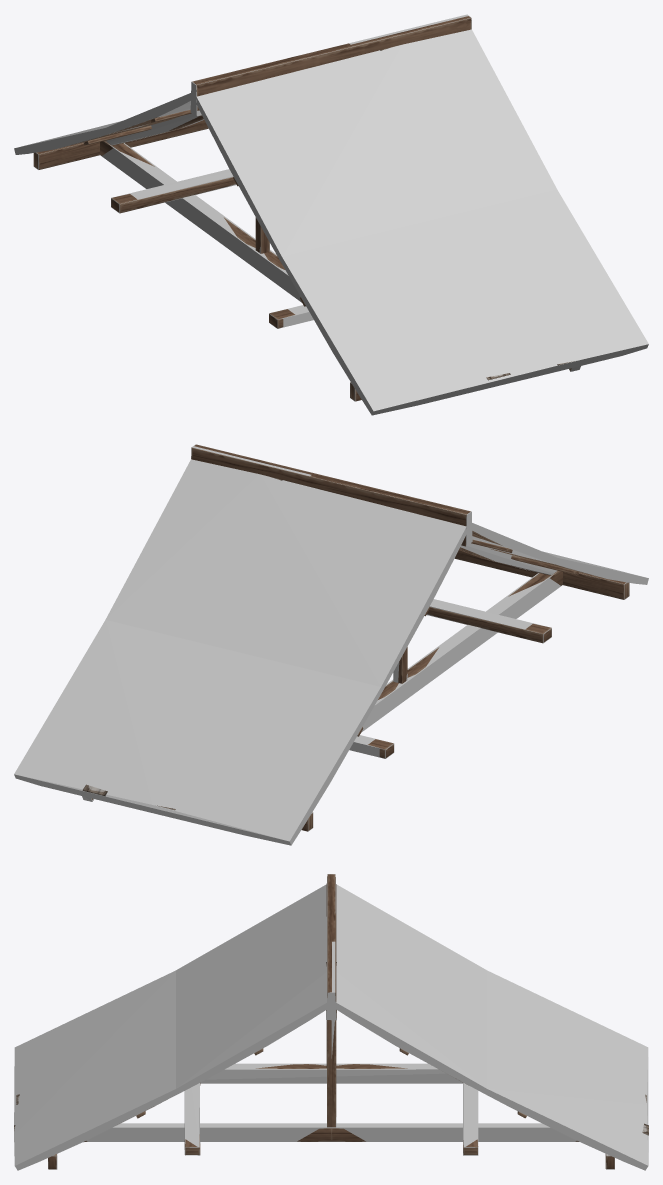
Rendered from SM_Hangar01RM_3.fbx.
3 renders of one model, top to bottom at view 1: azimuth 30°, elevation 25°; view 2: azimuth 150°, elevation 25°; view 3: azimuth 270°, elevation 25°, orthographic. The views are drawn at different scales.
Visible parts, largest first — view 1: SM_Hangar01RM_3_ConvexHulls, SM_Hangar01RM_3; view 2: SM_Hangar01RM_3_ConvexHulls, SM_Hangar01RM_3; view 3: SM_Hangar01RM_3_ConvexHulls, SM_Hangar01RM_3.
Boxes of the visible parts, x1,y1,x2,y2 form: SM_Hangar01RM_3_ConvexHulls: [14, 14, 648, 415]; SM_Hangar01RM_3: [33, 16, 574, 401]; SM_Hangar01RM_3_ConvexHulls: [14, 444, 648, 845]; SM_Hangar01RM_3: [82, 444, 629, 831]; SM_Hangar01RM_3_ConvexHulls: [14, 874, 648, 1170]; SM_Hangar01RM_3: [14, 874, 648, 1169].
Size of the model in its own units: 452 by 1022 by 330.
4 materials, 3 textured.
